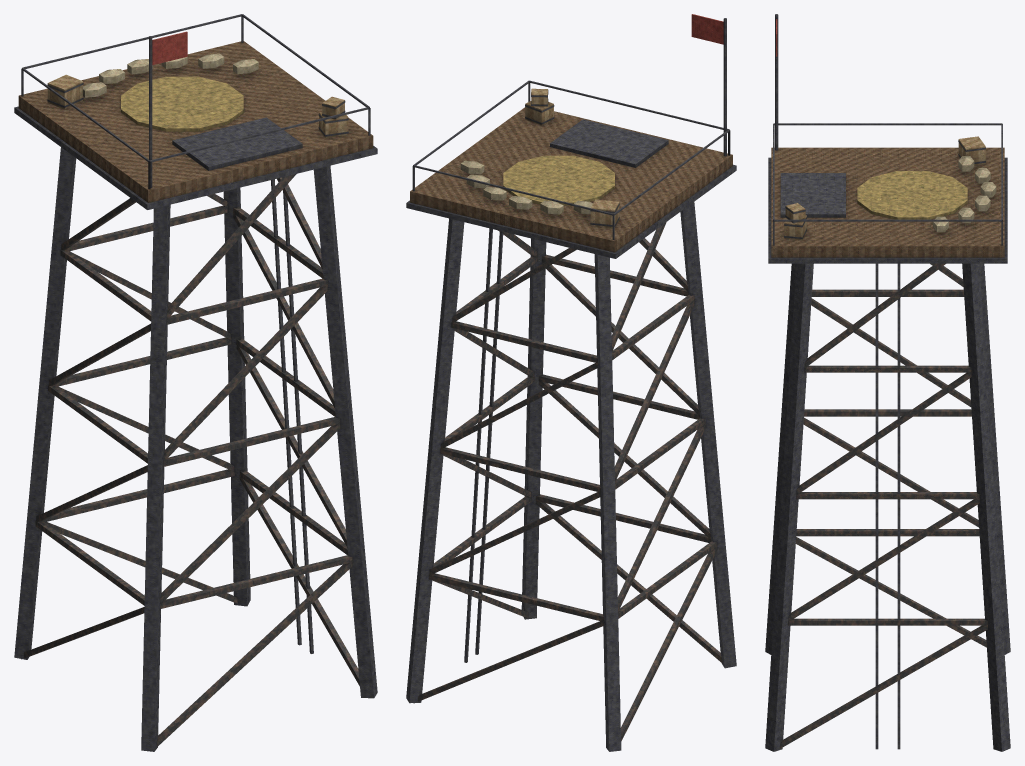
File: SM_TurretTower.fbx
The picture shows the model from 3 angles, left to right: view 1: azimuth 30°, elevation 25°; view 2: azimuth 150°, elevation 25°; view 3: azimuth 270°, elevation 25°; orthographic projection. The views are drawn at different scales.
Parts seen in each view (by area): view 1: SM_TurretTower; view 2: SM_TurretTower; view 3: SM_TurretTower.
Boxes of the visible parts, box(x1,y1,x2,y2) form: SM_TurretTower: box(14, 14, 377, 751); SM_TurretTower: box(406, 14, 736, 751); SM_TurretTower: box(765, 14, 1010, 751).
Size of what is drawn, in the model's own units: 904 by 2603 by 904.
Materials: 1 (1 with a texture image).
